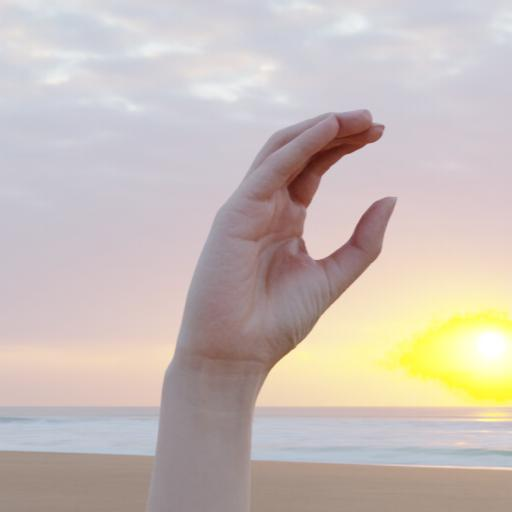C: (176, 104, 400, 351)
